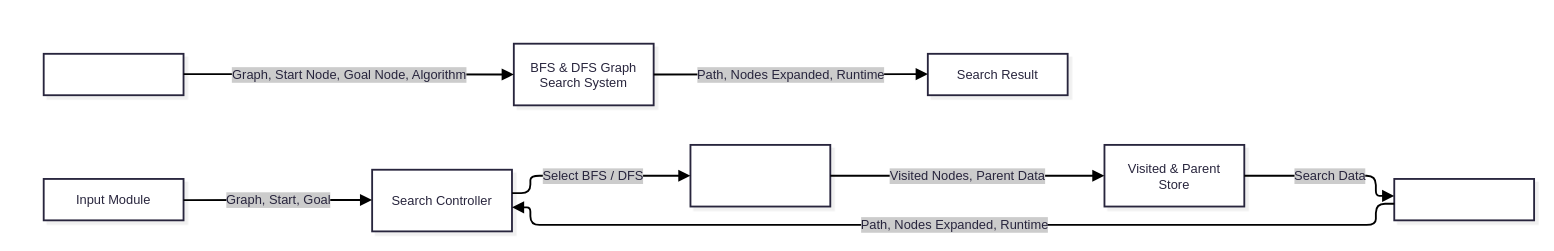
Some shapes in this 1554 by 251 pixel diagram are drawn without their labels. Each missing label, with the centre of its shape:
"BFS / DFS Search Engine" goes at pixel 761 177.
"Output & Profiler" goes at pixel 1465 201.
"User" goes at pixel 115 75.
